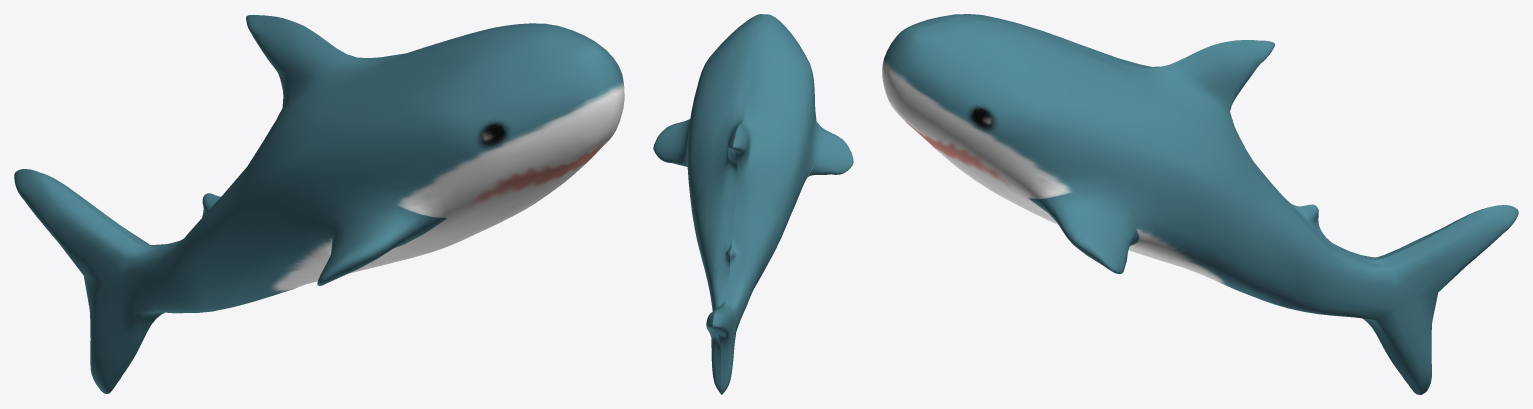
Rendered from modelDraco.gltf.
The picture shows the model from 3 angles, left to right: view 1: azimuth 30°, elevation 25°; view 2: azimuth 150°, elevation 25°; view 3: azimuth 270°, elevation 25°; orthographic projection. The views are drawn at different scales.
Visible parts, largest first — view 1: Object_2; view 2: Object_2; view 3: Object_2.
Boxes of the visible parts, x1,y1,x2,y2 form: Object_2: (14, 14, 624, 393); Object_2: (653, 14, 853, 394); Object_2: (882, 14, 1518, 394).
Bounding box in the file's own units: 1.73 × 2.39 × 3.03.
1 material, 1 textured.
